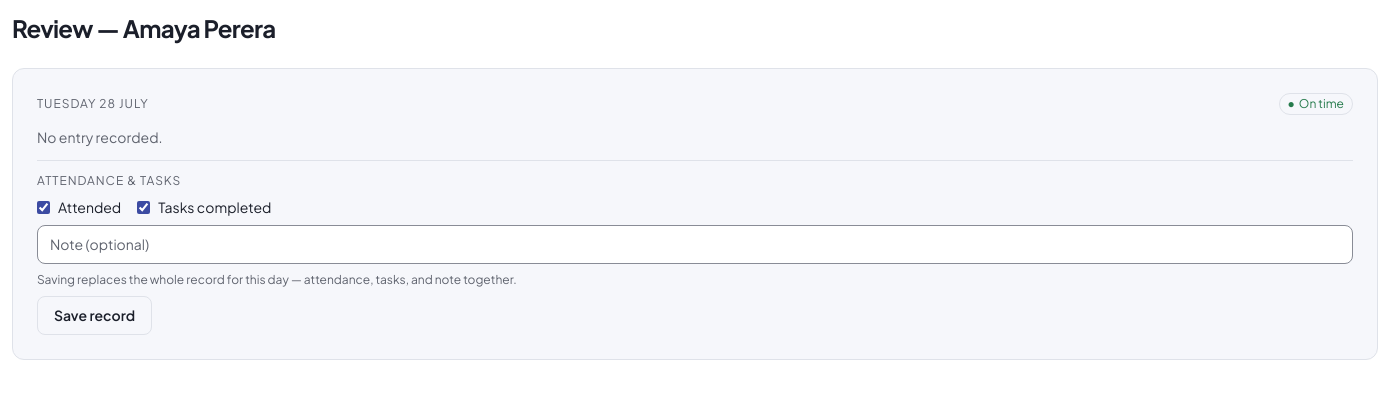
Scenario: StudentReviewPage › preserves the stored checked boxes in the submitted FormData when only the note is edited
The image size is (1378, 405).
Type "Followed up by evening." into the field named "Mentor note for 2026-07-28" at (695,244), box [37,225,1353,264]
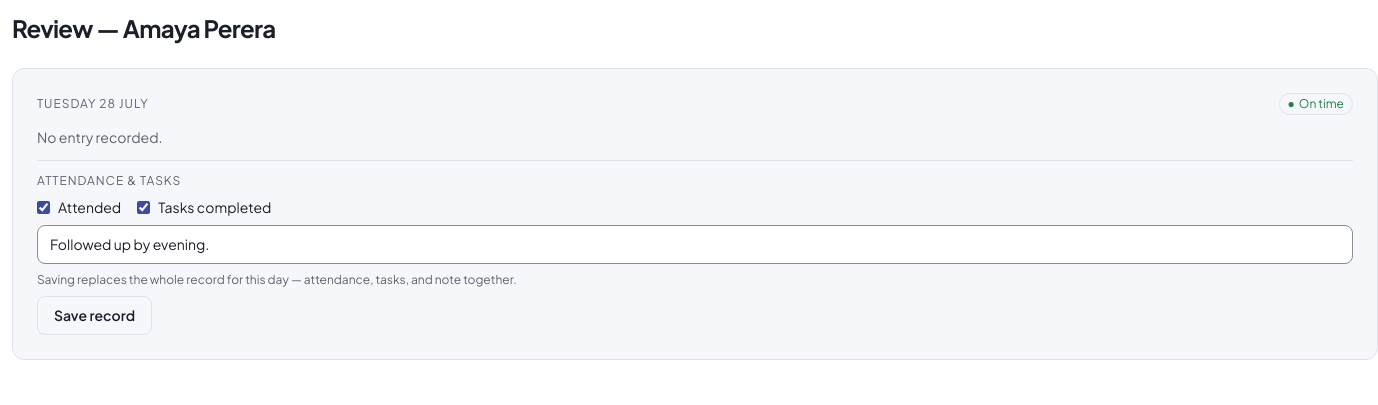
Click the button "Save record" at (95,316), box [37,296,152,335]
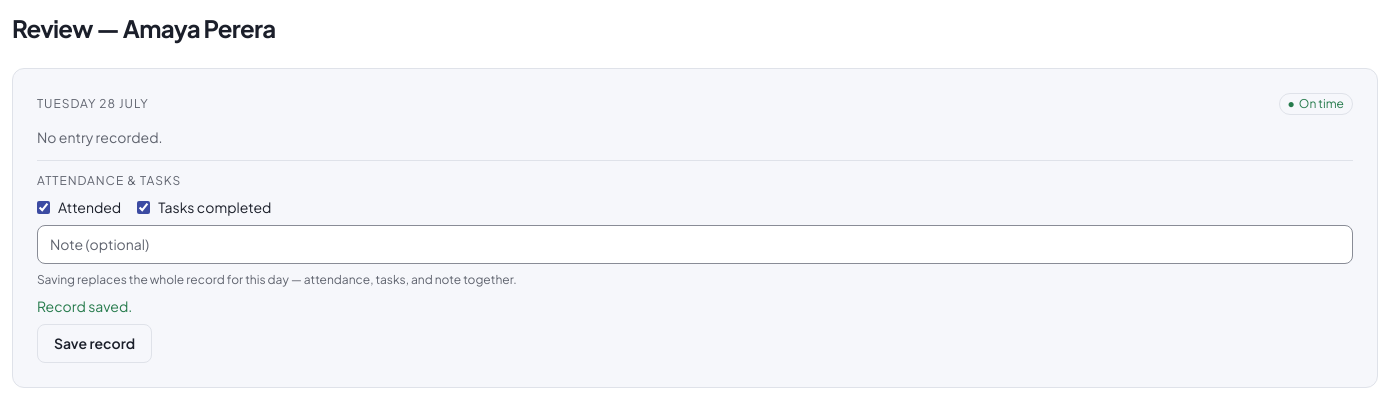
Now the text "Record saved." is shown, box [37,297,132,315]
